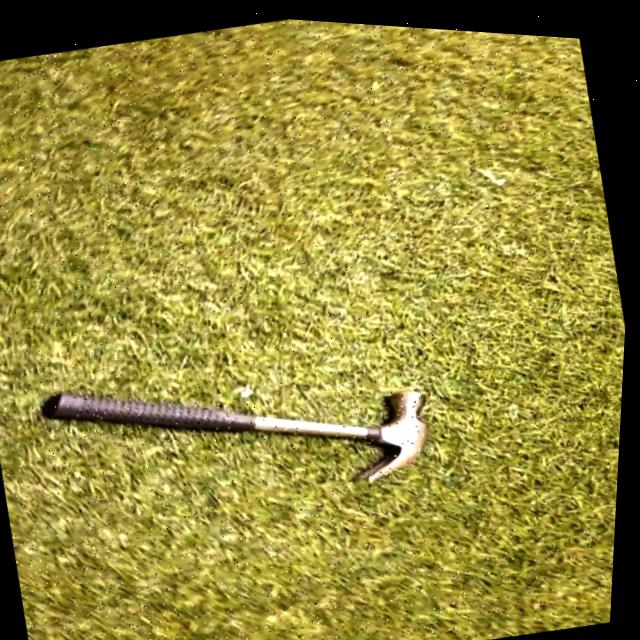hammer: (45, 320, 450, 553)
